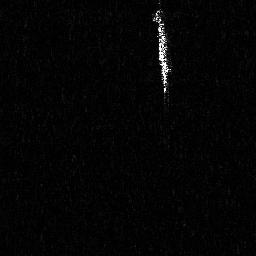ship: (151, 5, 173, 109)
